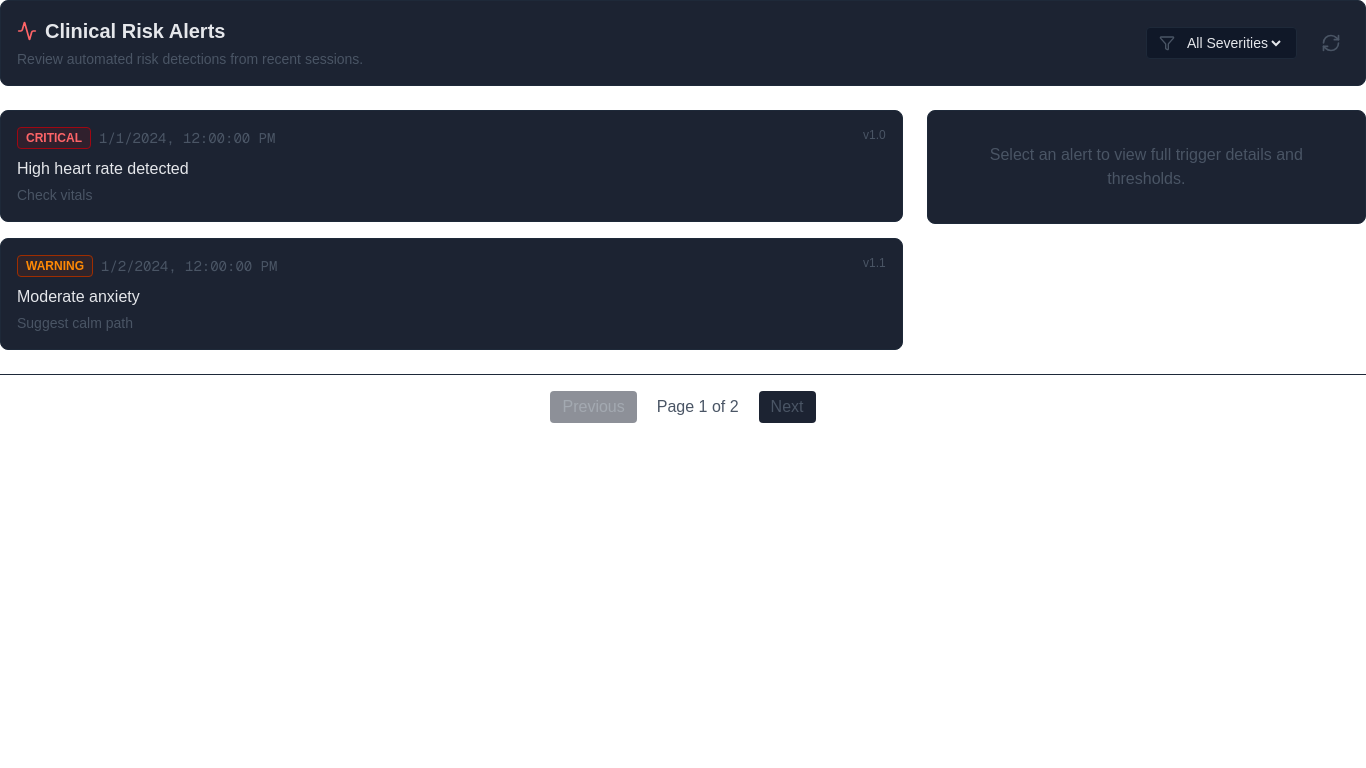
Test case: ClinicalAlertsTab › handles alert selection and details view
This screenshot has width=1366, height=768.
Expected: the heading "High heart rate detected" is shown, [17,160,189,177]
Expected: the text "Select an alert to view full trigger details and thresholds." is shown, [927,110,1365,224]
Click item
Click the button with aria-label "View alert details: High heart rate detected" at (54,138), box [0,110,903,222]
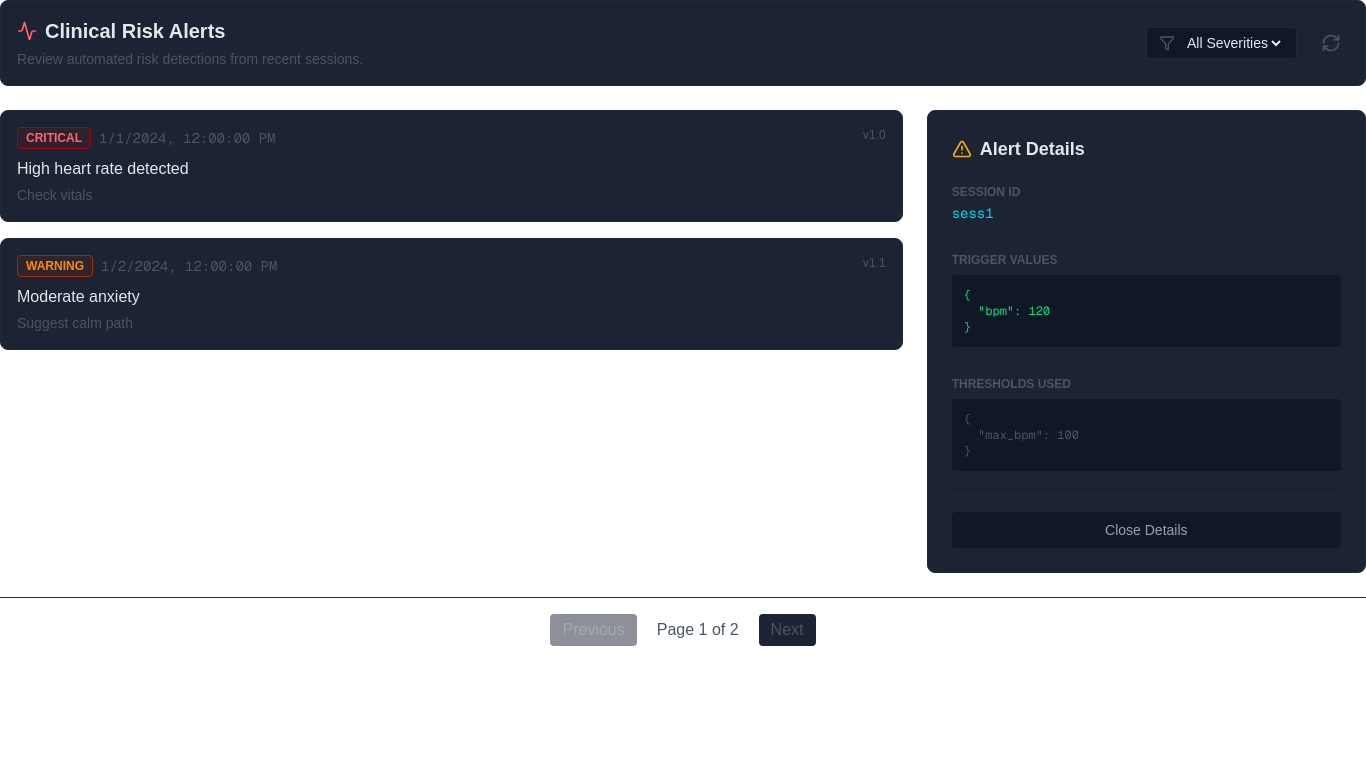
Expected: the heading "Alert Details" is shown, [952,139,1085,159]
Expected: the text "sess1" is shown, [952,204,994,222]
Expected: the text "{ \"bpm\": 120 }" is shown, [952,275,1341,347]
Close details
Click the button labelled "Close Details" at (1146,530), box [952,512,1341,548]
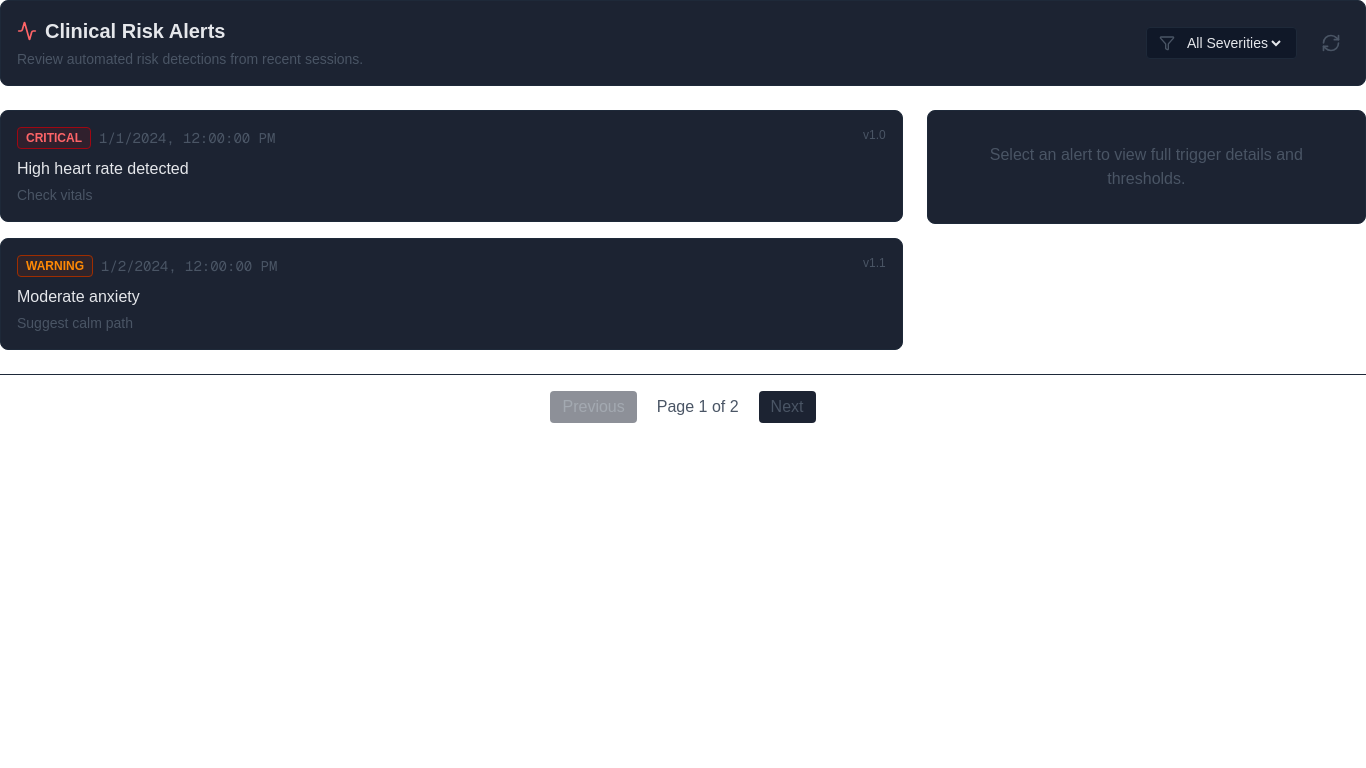
Expected: the text "Select an alert to view full trigger details and thresholds." is shown, [927,110,1365,224]
